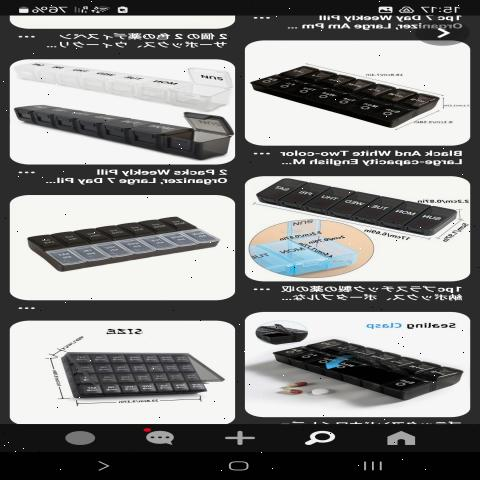PillBox: (25, 206, 225, 286), (255, 52, 436, 136), (14, 99, 224, 166), (30, 340, 222, 410), (263, 337, 469, 397), (257, 177, 453, 238)
